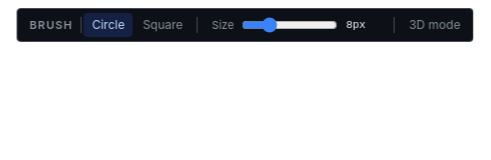
Test: ToolOptions › shows brush secondary controls and updates brush size @links:SRS-014 @testing:T9
Check: the element named "Brush options" is shown, box [16, 8, 473, 42]
Check: the button "Circle" is shown, box [84, 13, 133, 37]
Set the slider named "Brush size" to "18" at (297, 25), box [242, 17, 338, 33]
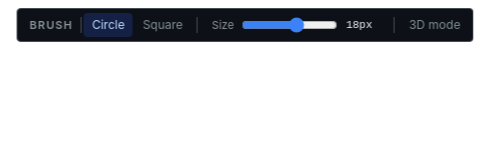
Check: the text "18px" is shown, box [346, 19, 372, 31]
